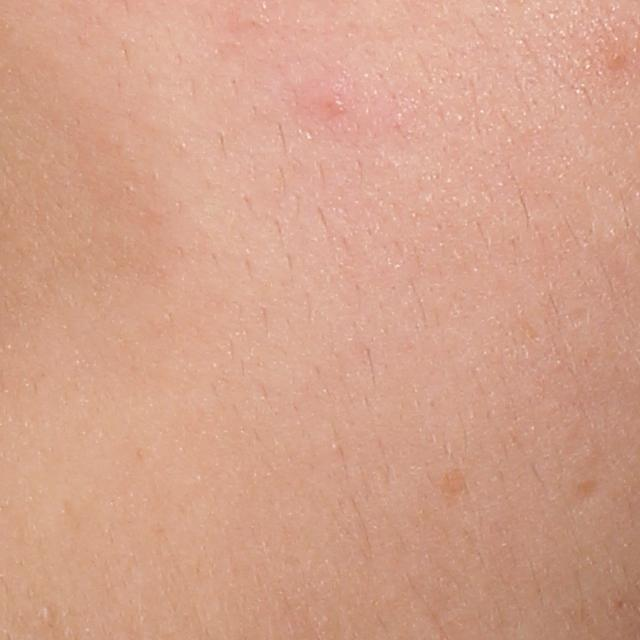atrophic_scar: (570, 477, 602, 506)
comedo: (38, 602, 55, 622)
papule: (325, 96, 344, 112)
